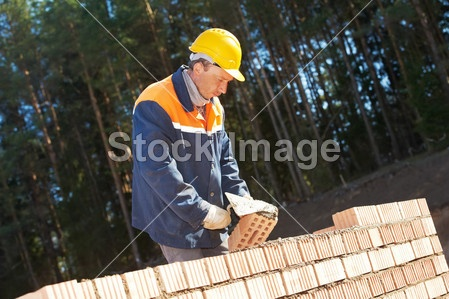yellow: (186, 23, 246, 100)
